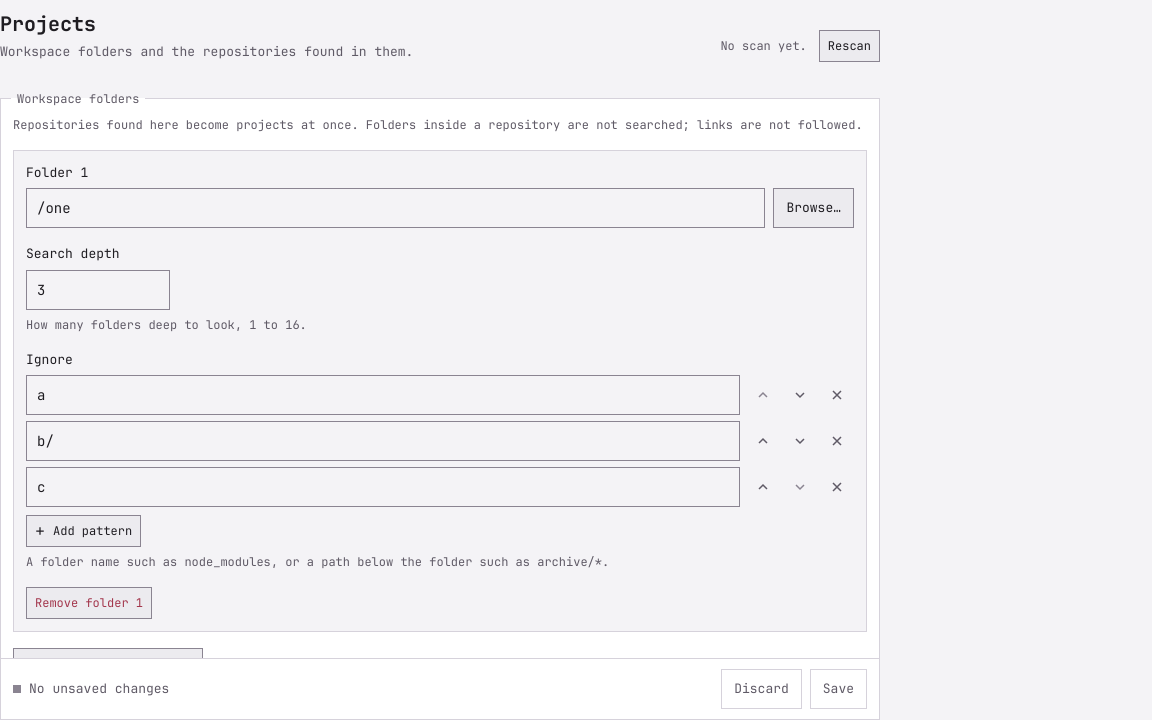
Scenario: a refusal of an ignore pattern by its number does not move to another pattern when one is removed
Replace the text in the field labelled "Folder 1" with "/one/x": (396, 208) [26, 188, 765, 228]
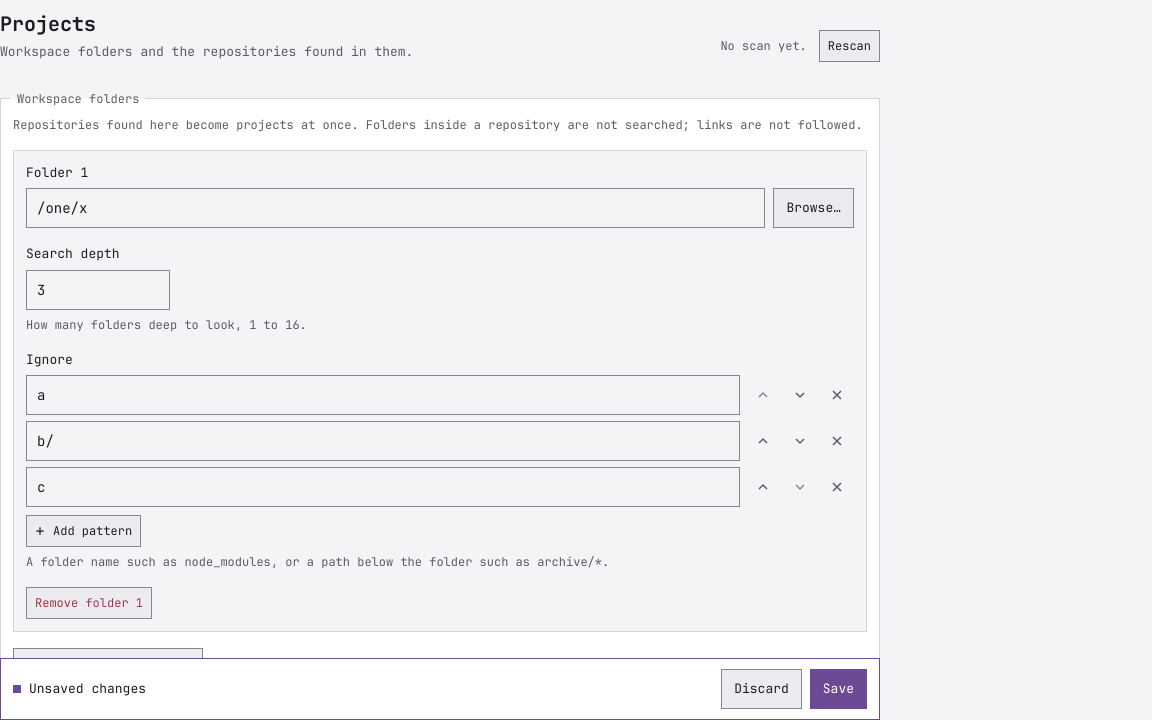
Click the button "Save": (838, 689) [810, 669, 867, 709]
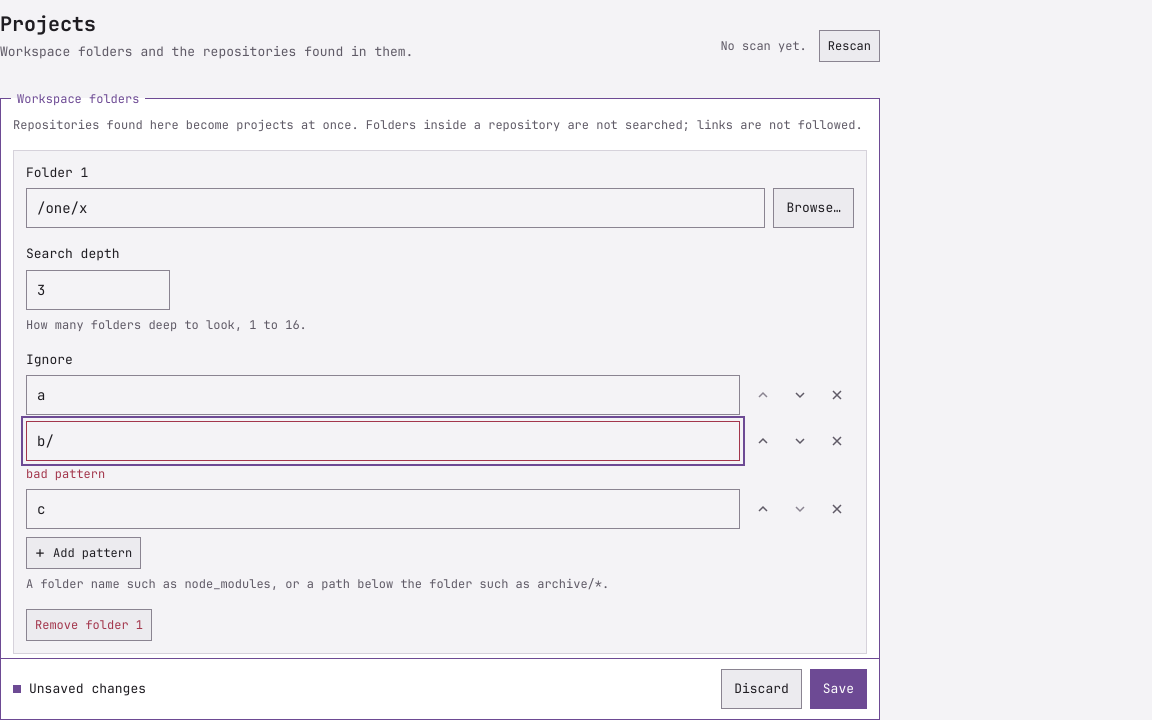
Result: the list item "bad pattern" is shown at [26, 421, 854, 483]
Click the button named "Remove pattern 1": (837, 395) [819, 375, 854, 415]
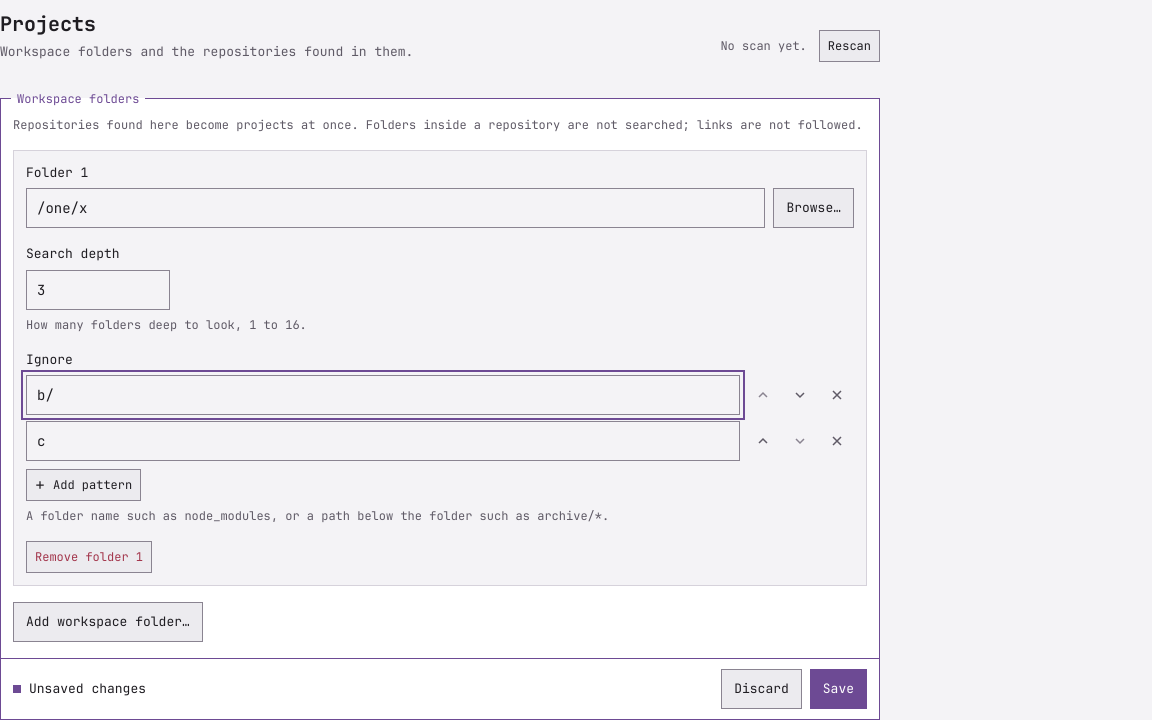
Result: the text "bad pattern" is gone
